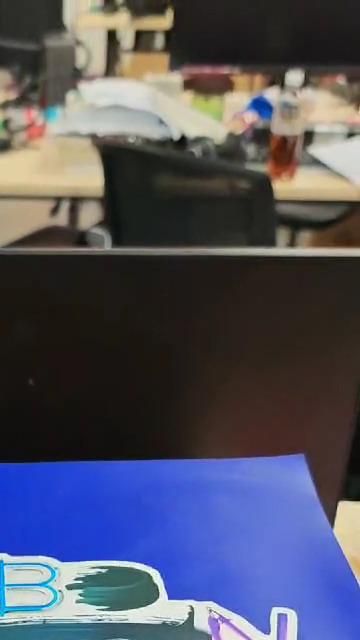B_R1: (0, 551, 311, 640), (0, 561, 311, 640)
